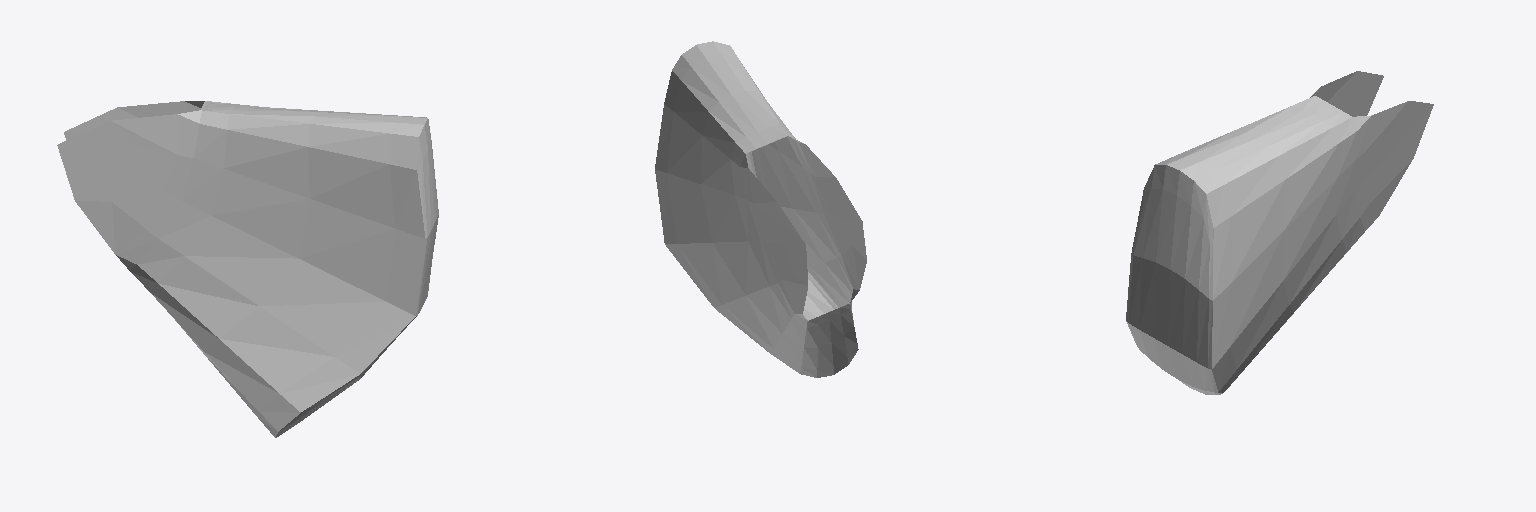
File: SubTool-5-13495684.OBJ
3 views of the same model, side by side, from view 1: azimuth 30°, elevation 25°; view 2: azimuth 150°, elevation 25°; view 3: azimuth 270°, elevation 25° (orthographic).
Visible parts, largest first — view 1: Group28; view 2: Group28; view 3: Group28.
Boxes of the visible parts, x1=… form: Group28: x1=57, y1=101, x2=438, y2=437; Group28: x1=655, y1=41, x2=866, y2=377; Group28: x1=1126, y1=71, x2=1433, y2=394.
Size of the model in its own units: 1.83 by 1.73 by 1.66.